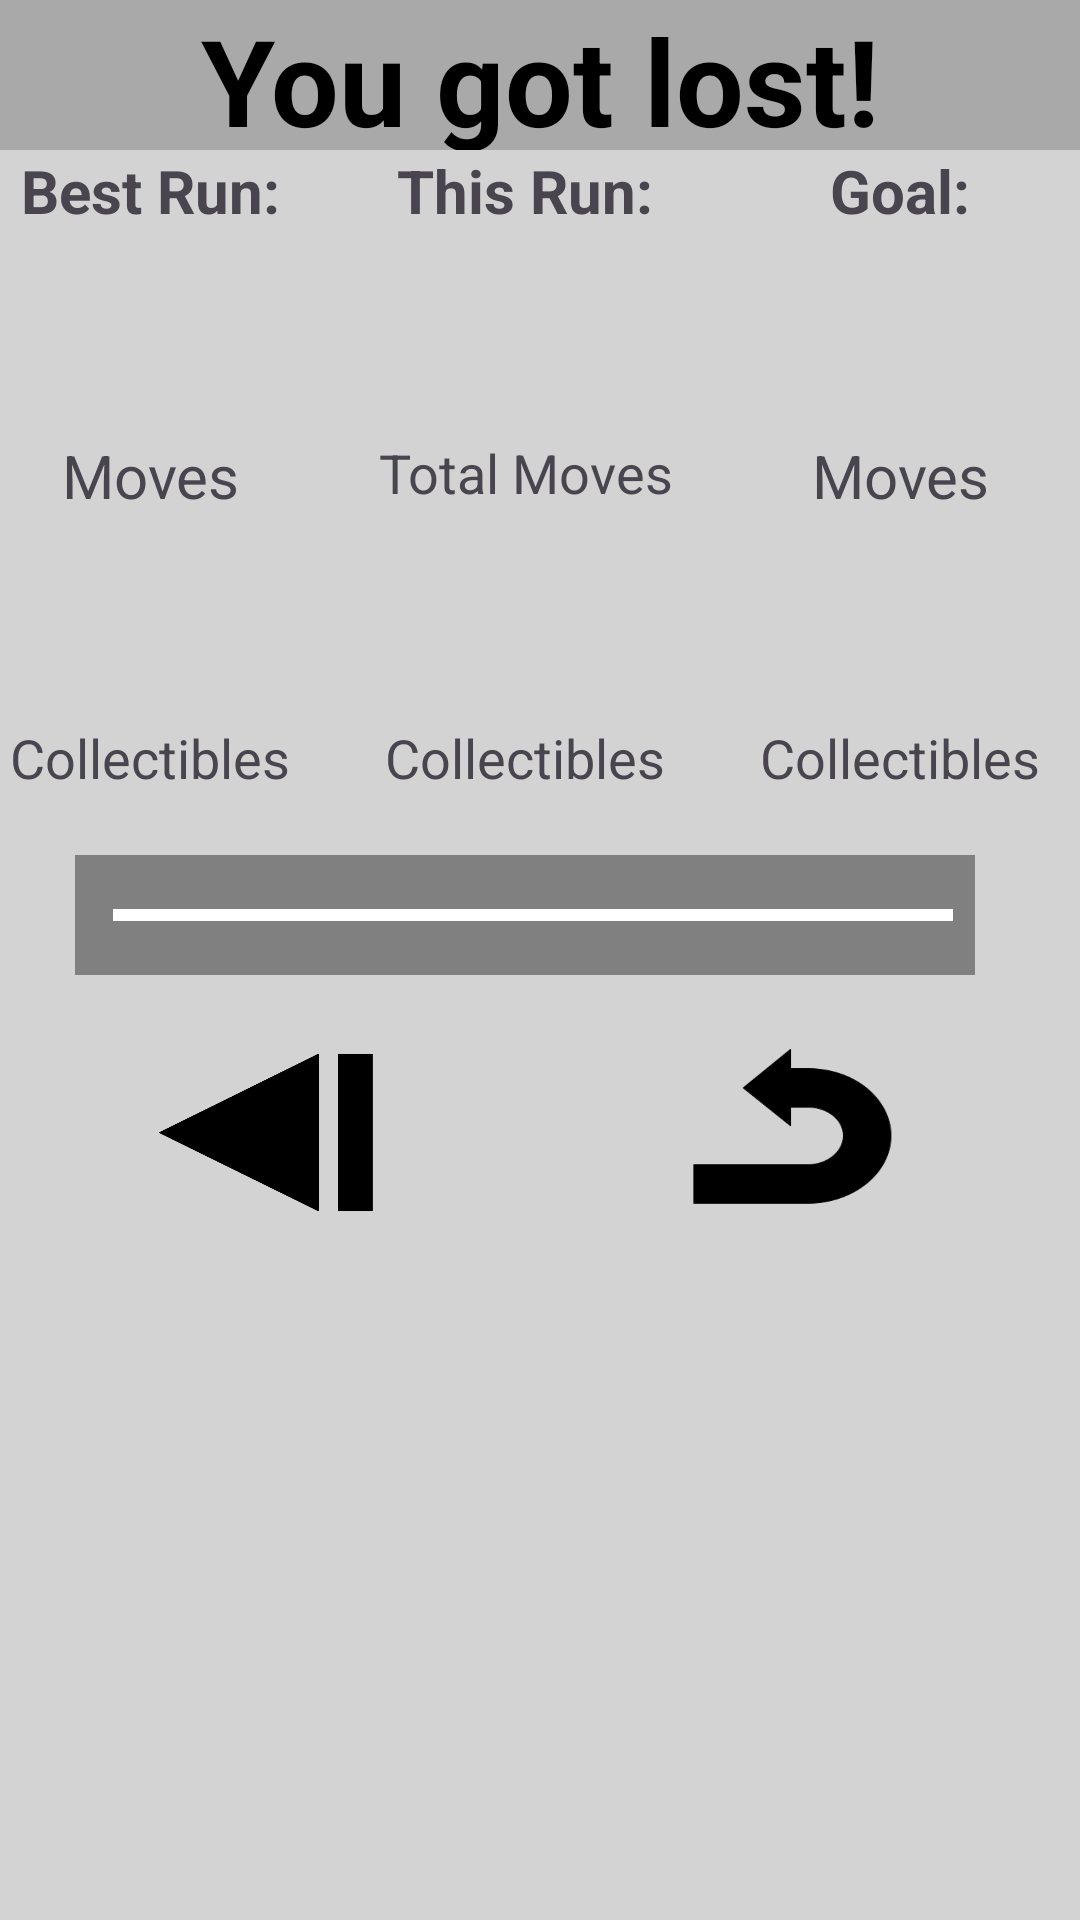

Icons on this 1080px x 1920px Android screen, each with its box as (x1=x1, y1=y1, x2=x2, y2=y2):
last level button: (x1=159, y1=1054, x2=373, y2=1211)
retry level button: (x1=693, y1=1049, x2=892, y2=1204)
